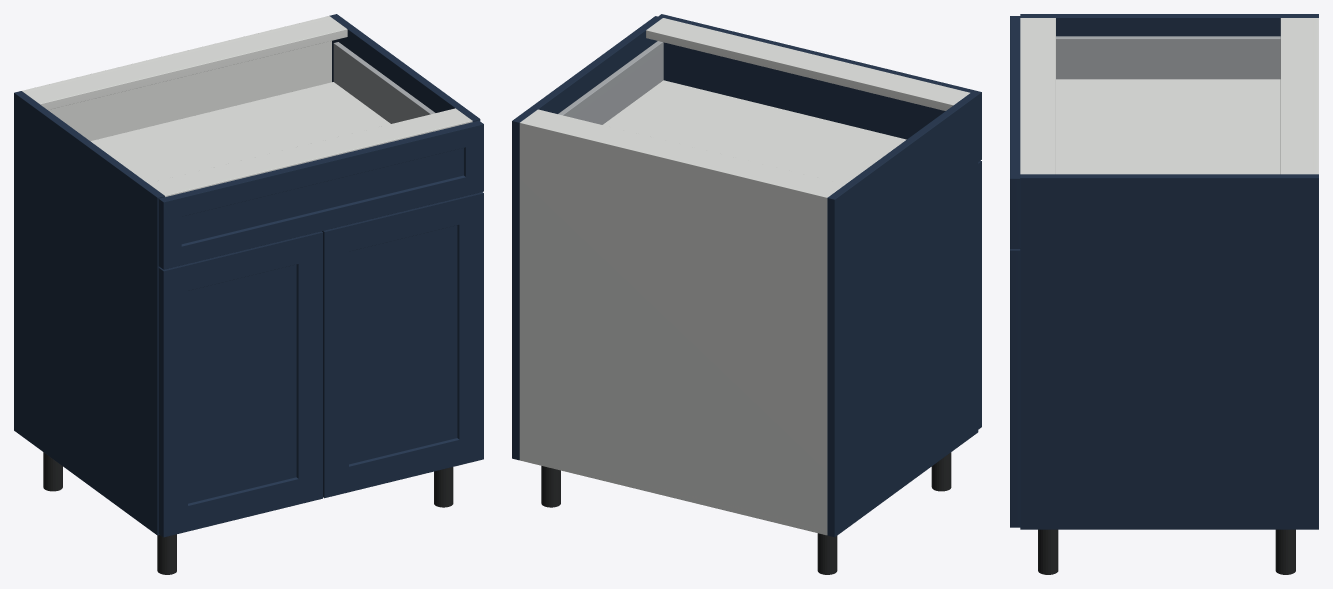
The model's file is oppein-pb-bss-b30.glb.
3 renders of one model, left to right at view 1: azimuth 30°, elevation 25°; view 2: azimuth 150°, elevation 25°; view 3: azimuth 270°, elevation 25°, orthographic. The views are drawn at different scales.
Parts seen in each view (by area): view 1: Cabinet side, Door, Door.001, Drawer front, Drawer floor, Cabinet back, Top support rail, Top support rail.001, Drawer side.001, Cabinet side.001, Adjustable foot.001, Adjustable foot.003 (+1 smaller); view 2: Cabinet back, Cabinet side, Drawer floor, Drawer front, Top support rail.001, Cabinet side.001, Top support rail, Drawer side.001, Door, Adjustable foot, Adjustable foot.002, Cabinet bottom (+1 smaller); view 3: Cabinet side.001, Drawer floor, Drawer side, Top support rail.001, Cabinet side, Top support rail, Door.001, Drawer front, Adjustable foot.003, Adjustable foot.002, Cabinet back.
Boxes of the visible parts, bbox=[...] form: Cabinet side: bbox=[14, 91, 164, 535]; Door: bbox=[158, 231, 322, 537]; Door.001: bbox=[322, 192, 483, 498]; Drawer front: bbox=[158, 120, 483, 269]; Drawer floor: bbox=[90, 82, 390, 183]; Cabinet back: bbox=[22, 16, 331, 140]; Top support rail: bbox=[23, 17, 347, 109]; Top support rail.001: bbox=[148, 108, 472, 196]; Drawer side.001: bbox=[333, 42, 435, 123]; Cabinet side.001: bbox=[329, 14, 480, 121]; Adjustable foot.001: bbox=[157, 534, 176, 574]; Adjustable foot.003: bbox=[434, 467, 453, 507]; Cabinet back: bbox=[519, 120, 829, 534]; Cabinet side: bbox=[827, 93, 978, 537]; Drawer floor: bbox=[603, 80, 906, 184]; Drawer front: bbox=[658, 14, 981, 161]; Top support rail.001: bbox=[646, 18, 969, 110]; Cabinet side.001: bbox=[512, 16, 662, 460]; Top support rail: bbox=[523, 109, 844, 195]; Drawer side.001: bbox=[558, 41, 663, 124]; Door: bbox=[978, 160, 981, 429]; Adjustable foot: bbox=[817, 533, 837, 574]; Adjustable foot.002: bbox=[541, 466, 560, 507]; Cabinet bottom: bbox=[519, 456, 826, 535]; Cabinet side.001: bbox=[1020, 174, 1318, 529]; Drawer floor: bbox=[1056, 79, 1280, 174]; Drawer side: bbox=[1056, 36, 1280, 79]; Top support rail.001: bbox=[1020, 18, 1055, 174]; Cabinet side: bbox=[1020, 14, 1318, 36]; Top support rail: bbox=[1280, 18, 1315, 174]; Door.001: bbox=[1010, 249, 1020, 527]; Drawer front: bbox=[1010, 16, 1020, 248]; Adjustable foot.003: bbox=[1038, 529, 1058, 574]; Adjustable foot.002: bbox=[1275, 529, 1295, 574]; Cabinet back: bbox=[1313, 18, 1318, 174].
Size of the model in its own units: 0.762 by 0.8763 by 0.6064.
